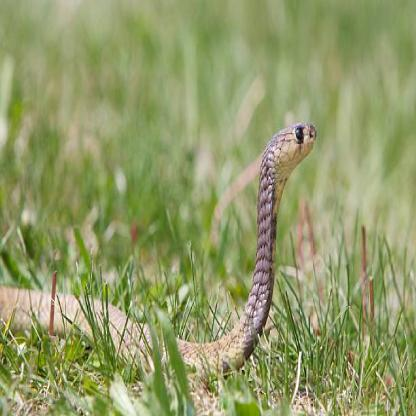Snake: (2, 115, 318, 371)
